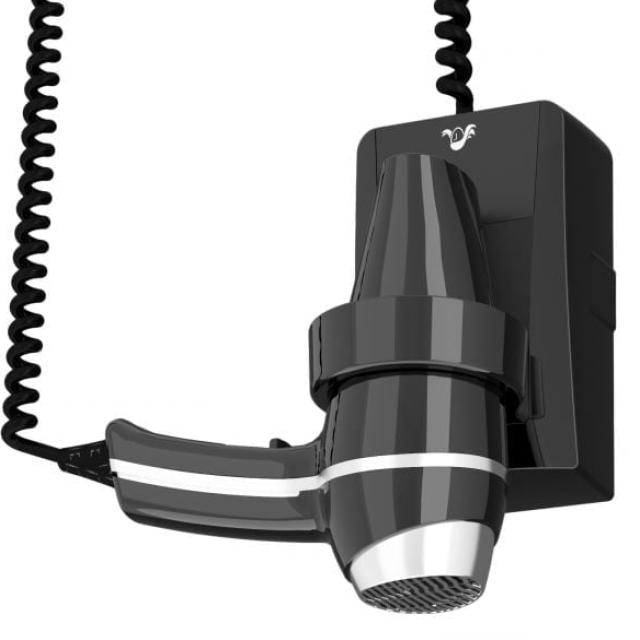dryer: (8, 69, 628, 633), (30, 126, 526, 618)
